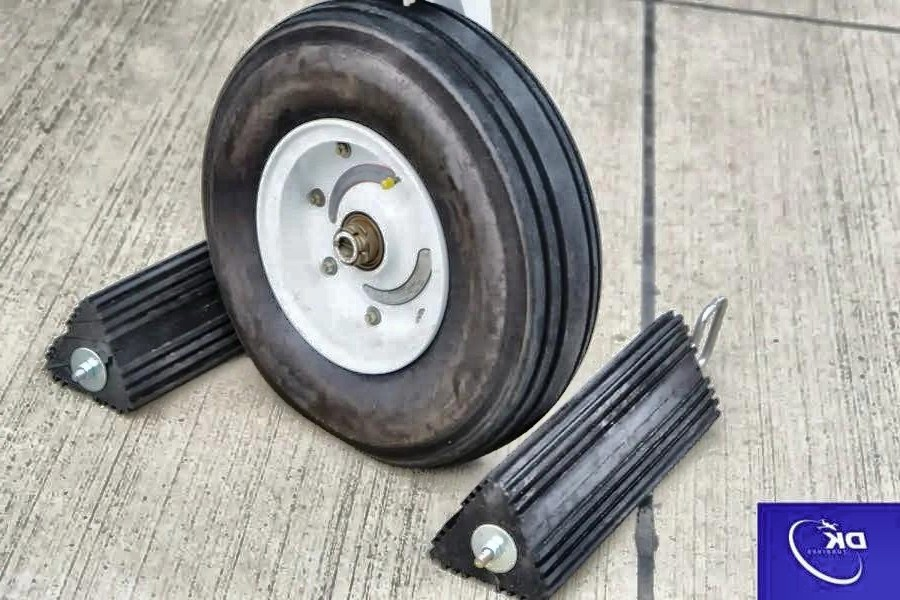chock: (428, 308, 724, 598), (43, 227, 308, 418)
wheel: (203, 2, 598, 466)
